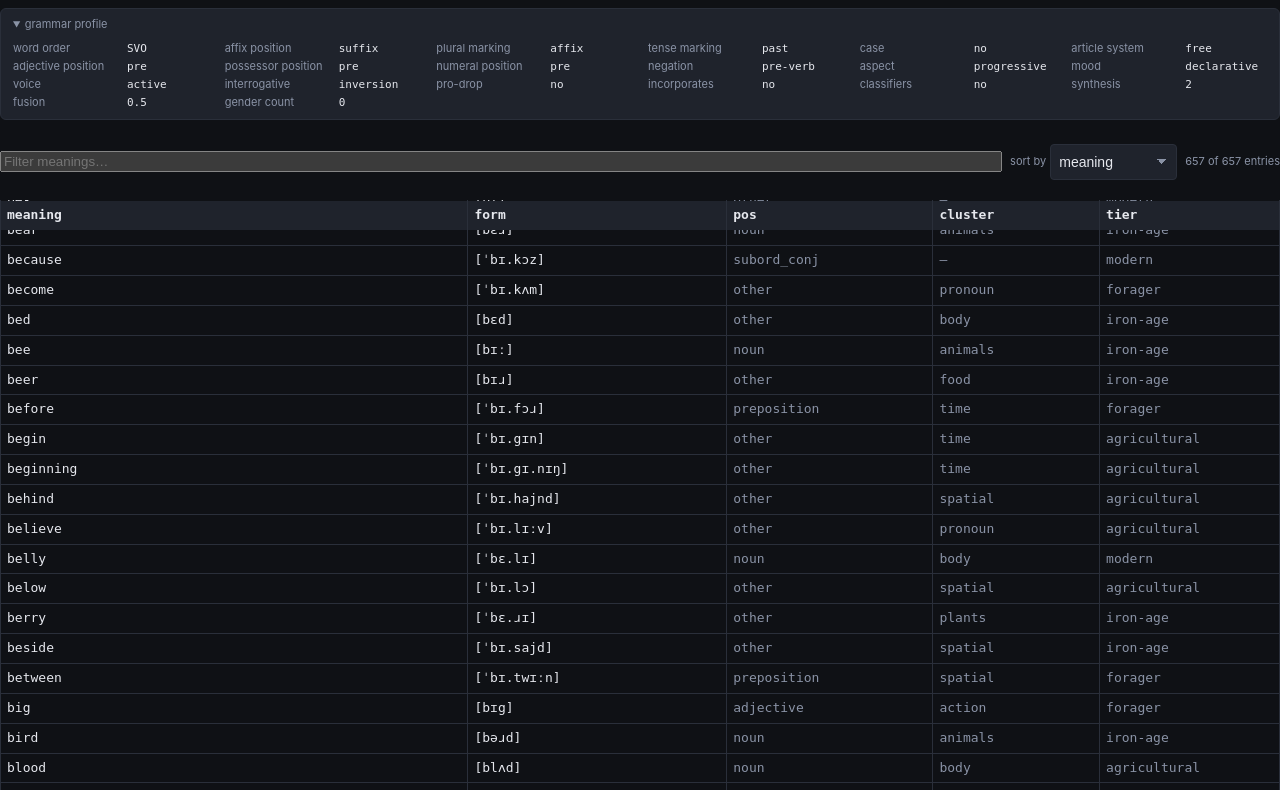
Test: DictionaryView — morpheme composition › shows the morpheme composition for a decomposed word (behind = hind + be-)
The image size is (1280, 790).
(page scrolled)
Click the text "behind".
click(234, 499)  # box [0,484,468,514]
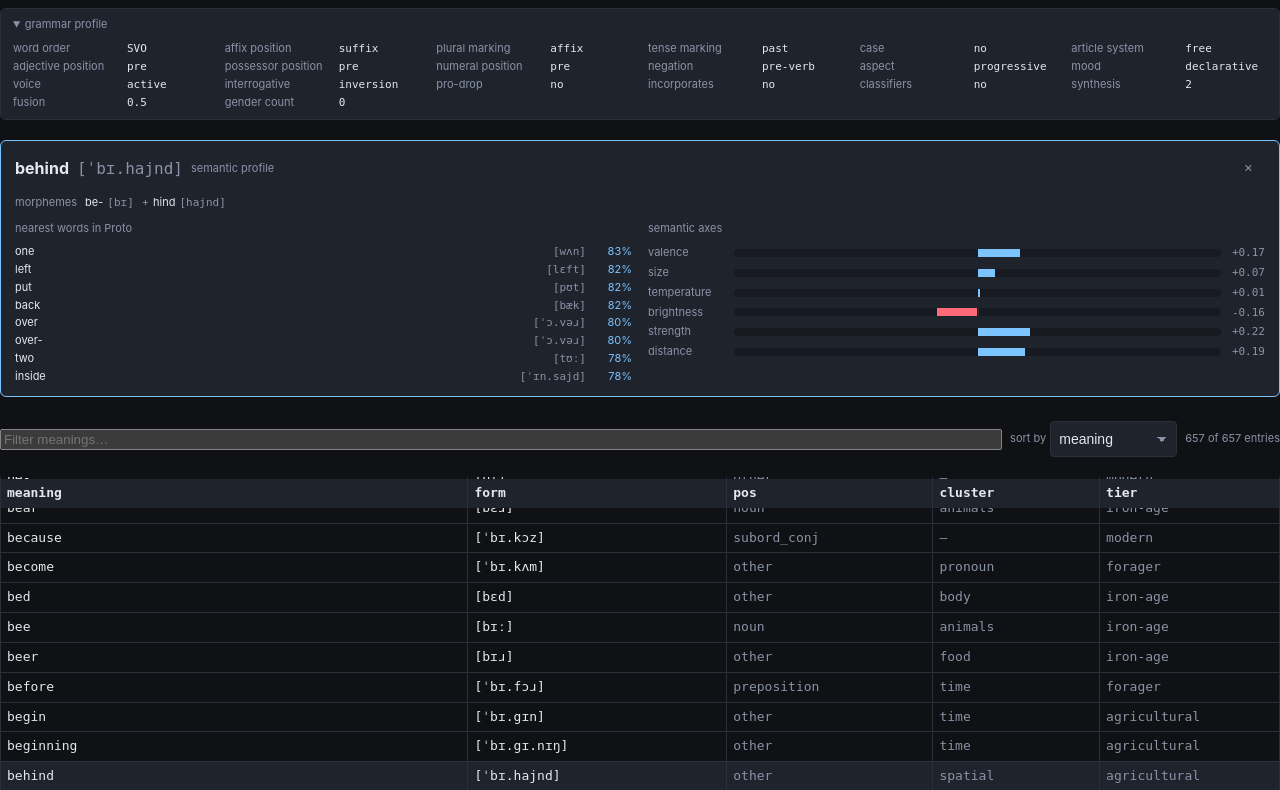
Expected: the text "morphemes" is shown, [15,195,77,211]
Expected: the text "hind" is shown, [153,195,176,211]
